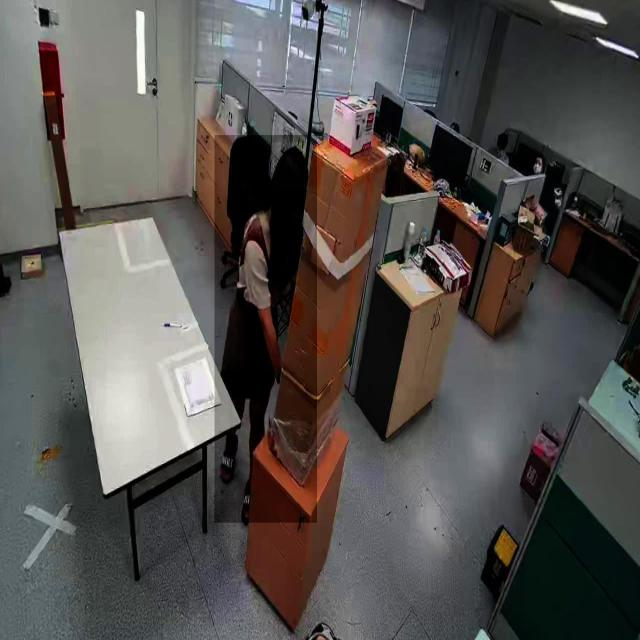face_mask: (284, 203, 304, 244)
head_nohelmet: (273, 142, 309, 190)
person: (215, 135, 318, 524)
